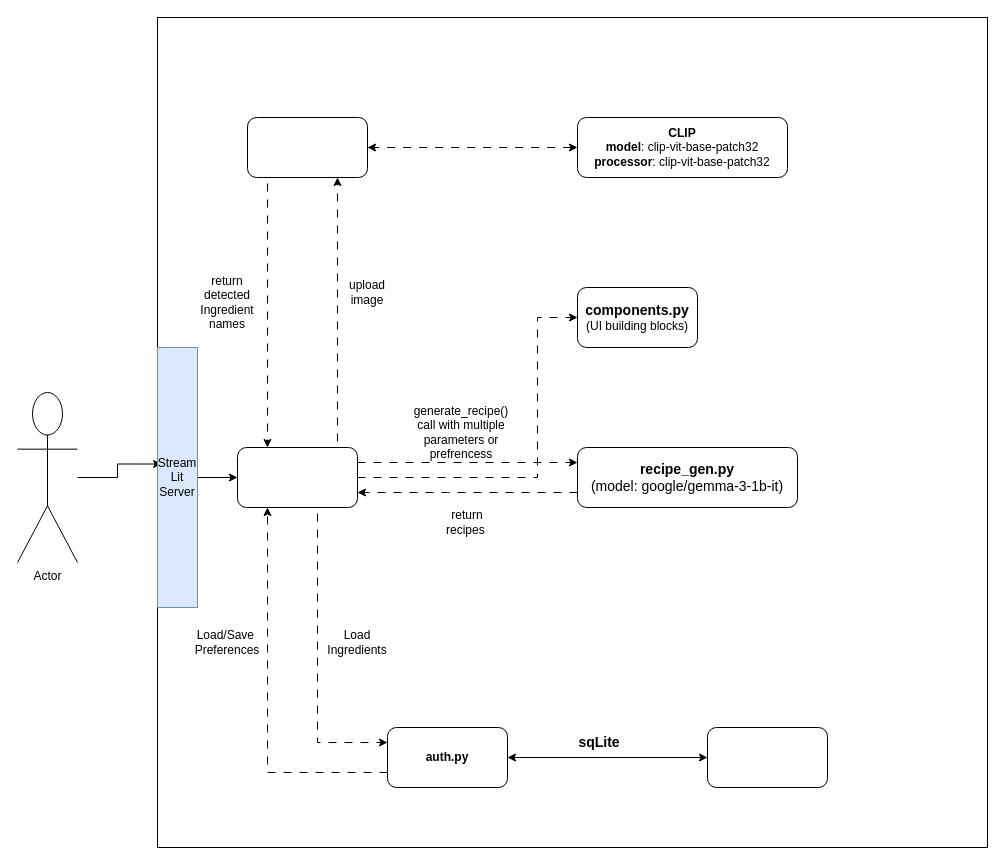
This 1005x865 diagram has some shape labels left out. The centre of each missing label's shape, as x and y in pixels:
app.py (Streamlit Tabs & Sessions): the point at 297,477
db.py: the point at 767,757
detect.py (Detect Vegetables): the point at 307,147
